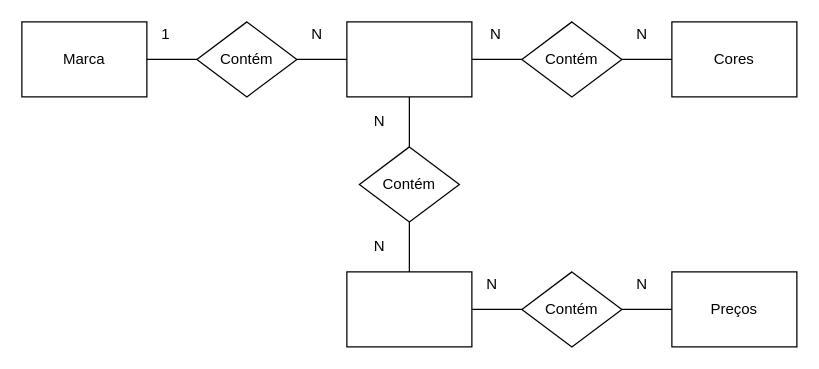
This 819x369 diagram has some shape labels left out. Here are the shapes that lost their labels. From the top down, the centre of each, then its label:
point (409, 59): Camiseta
point (409, 309): Tamanhos
